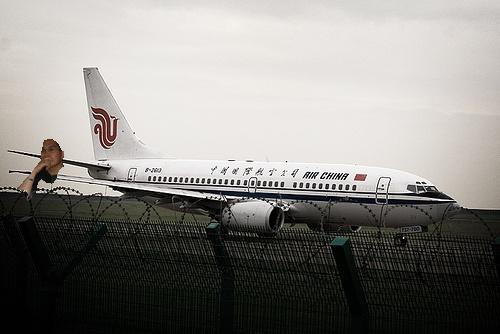tampered: (18, 140, 64, 201)
